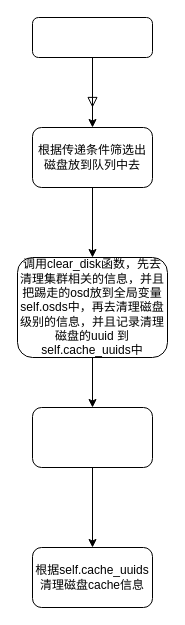
Image size: 185x625. Some labels were removed from this diagram. Here are the shapes that lost their labels. From the top down, the centre of each, then its label:
the point at 92,37: 获取得到系统盘，线程锁
the point at 92,437: 根据self.osds信息清理掉集群配置信息
